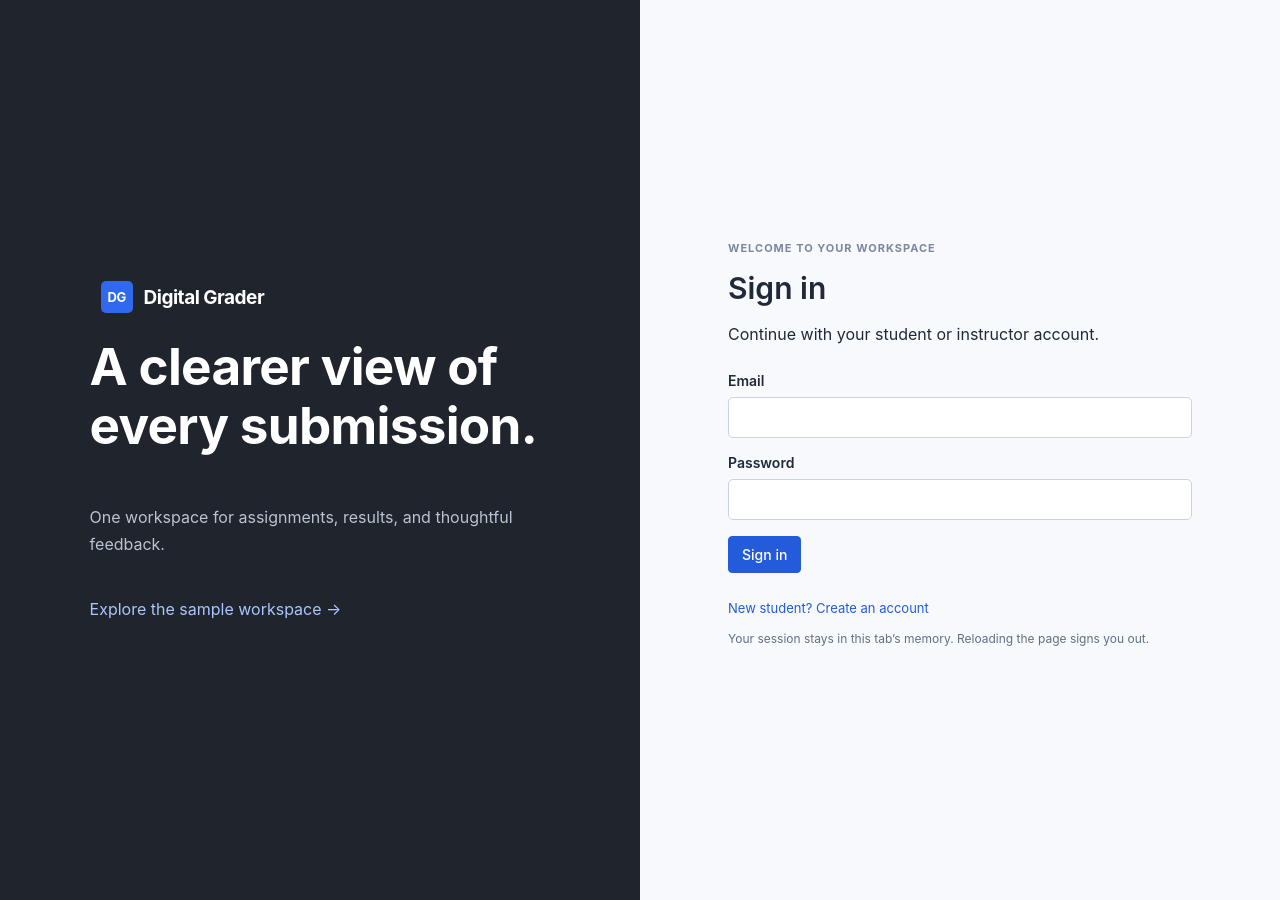
Test: signs in and shows scoped assignments without sample data
Type "s@fixture.local" into the field labelled "Email".
click(960, 417); type("s@fixture.local")  # box [728, 396, 1192, 438]
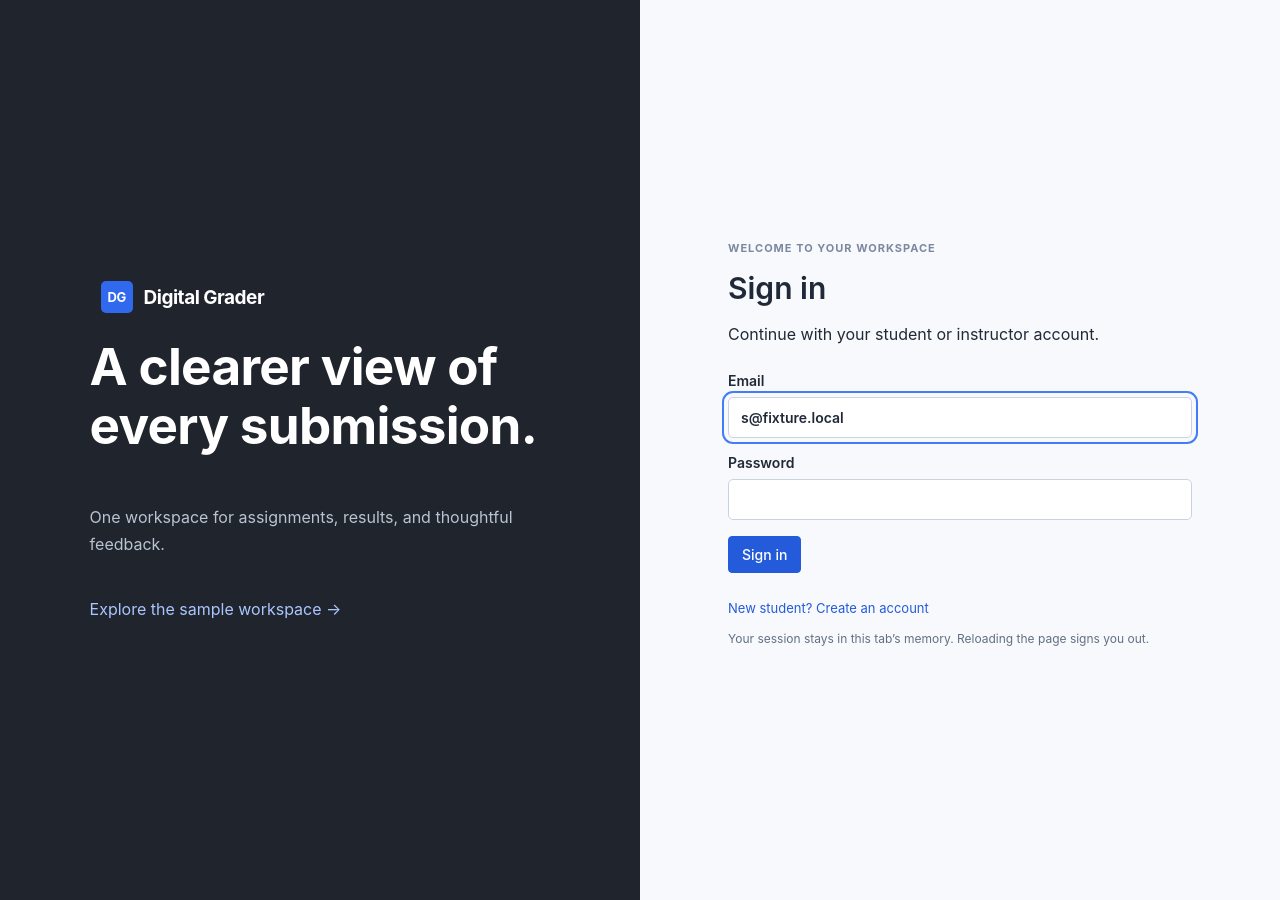
Type "fixture-password" into the password field labelled "Password".
click(960, 499); type("fixture-password")  # box [728, 478, 1192, 520]
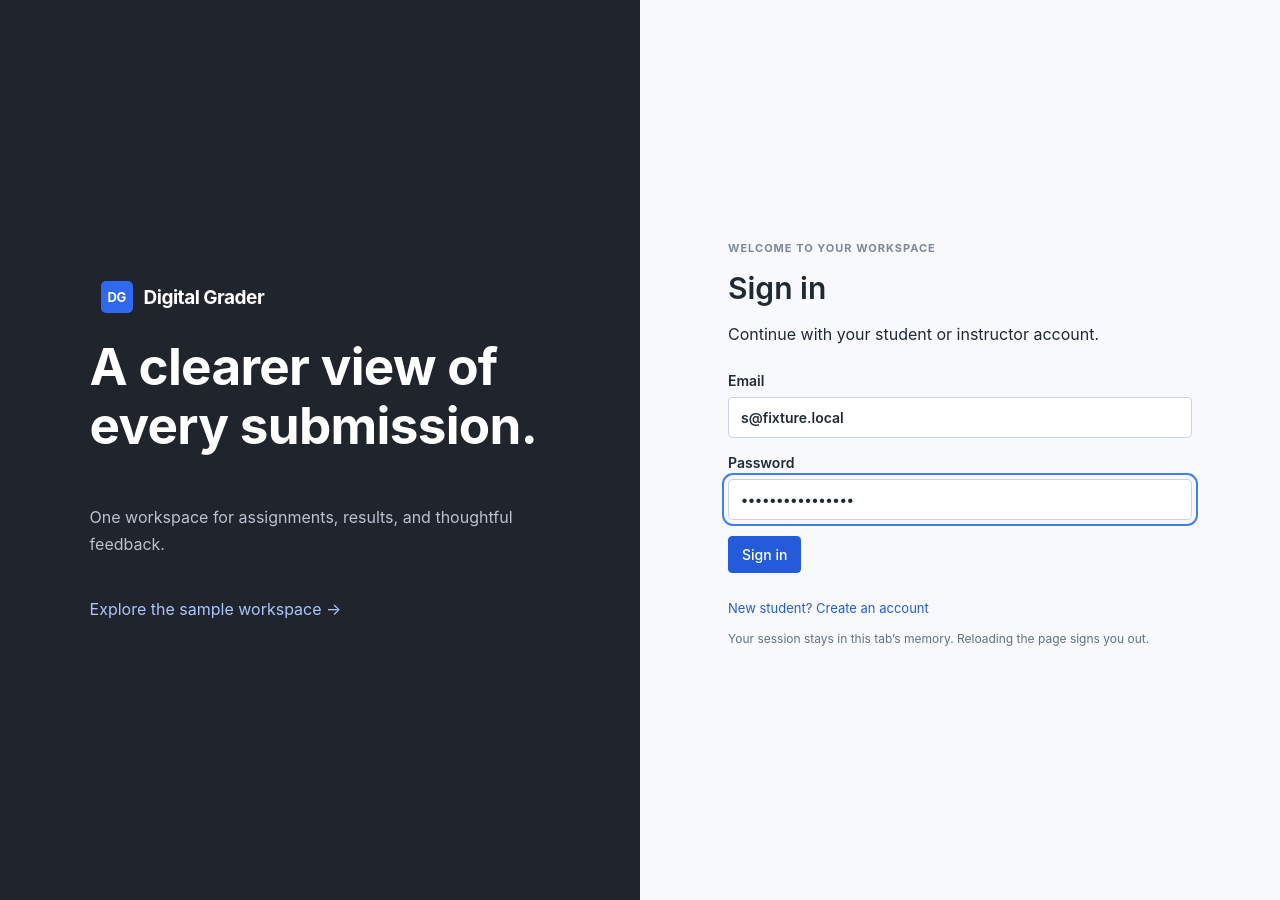
Click the button "Sign in".
click(765, 554)  # box [728, 536, 801, 572]
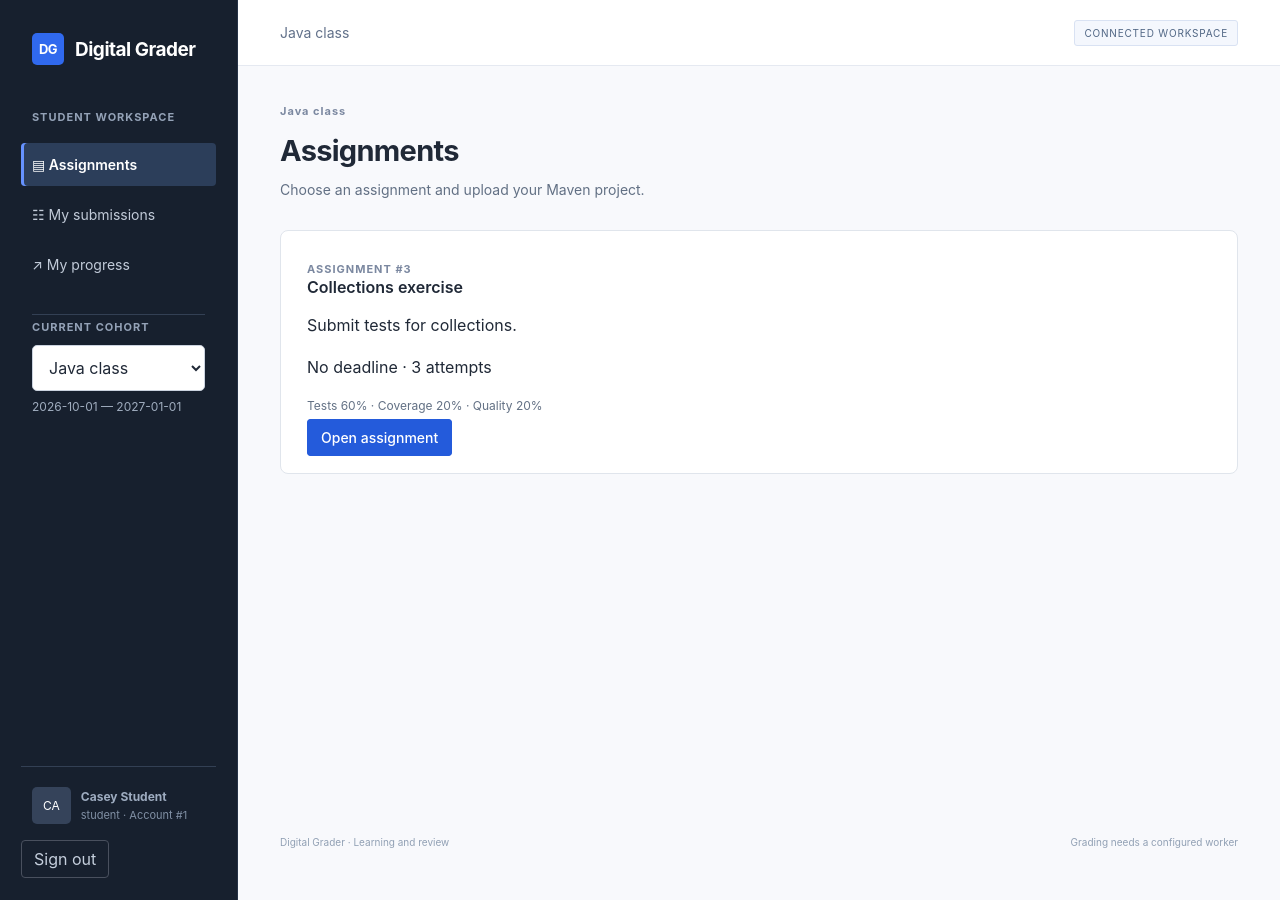
Result: the heading "Collections exercise" is shown at [307, 277, 463, 297]
Click the button "Sign out".
click(65, 859)  # box [21, 840, 109, 878]
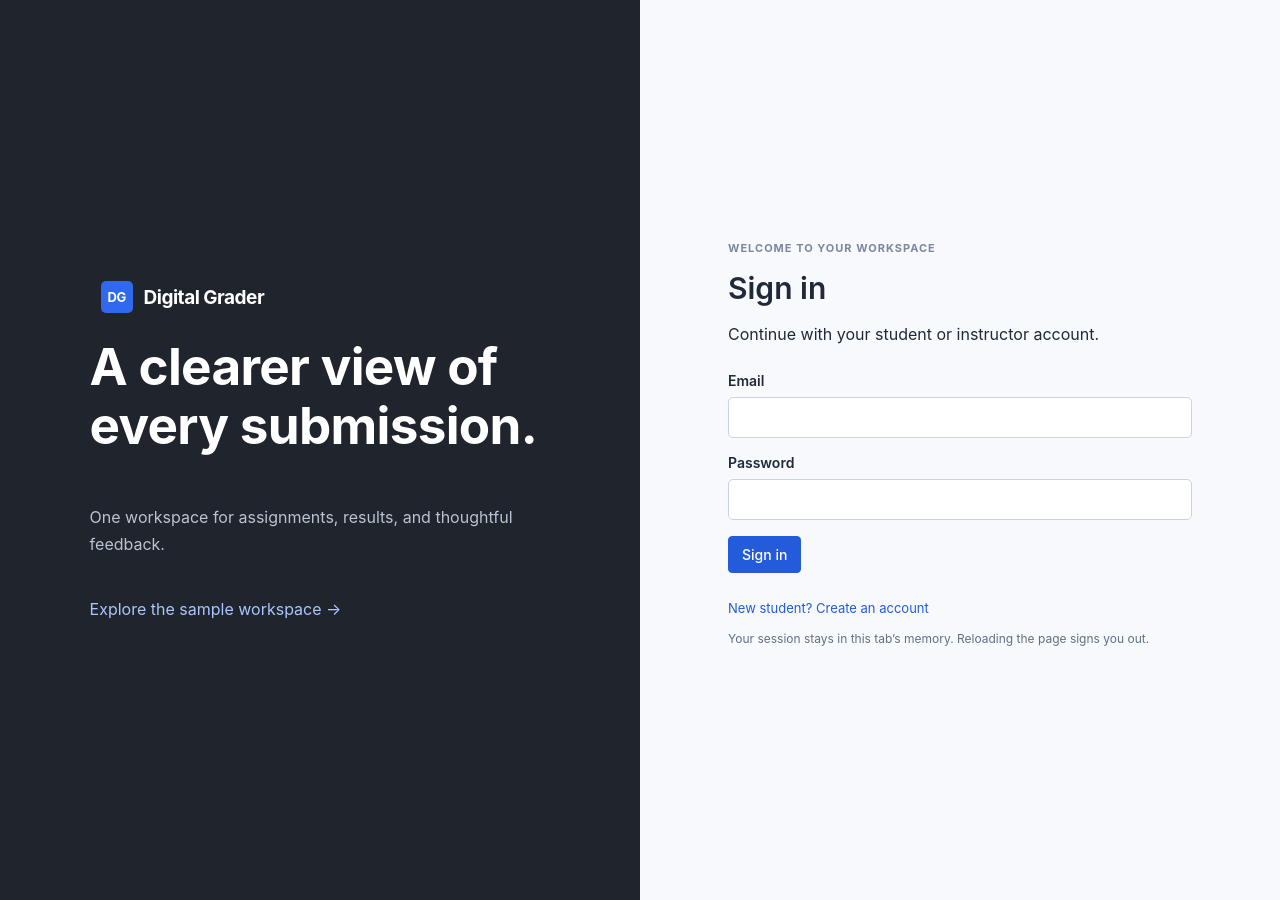
Result: the heading "Sign in" is shown at [728, 270, 826, 306]
